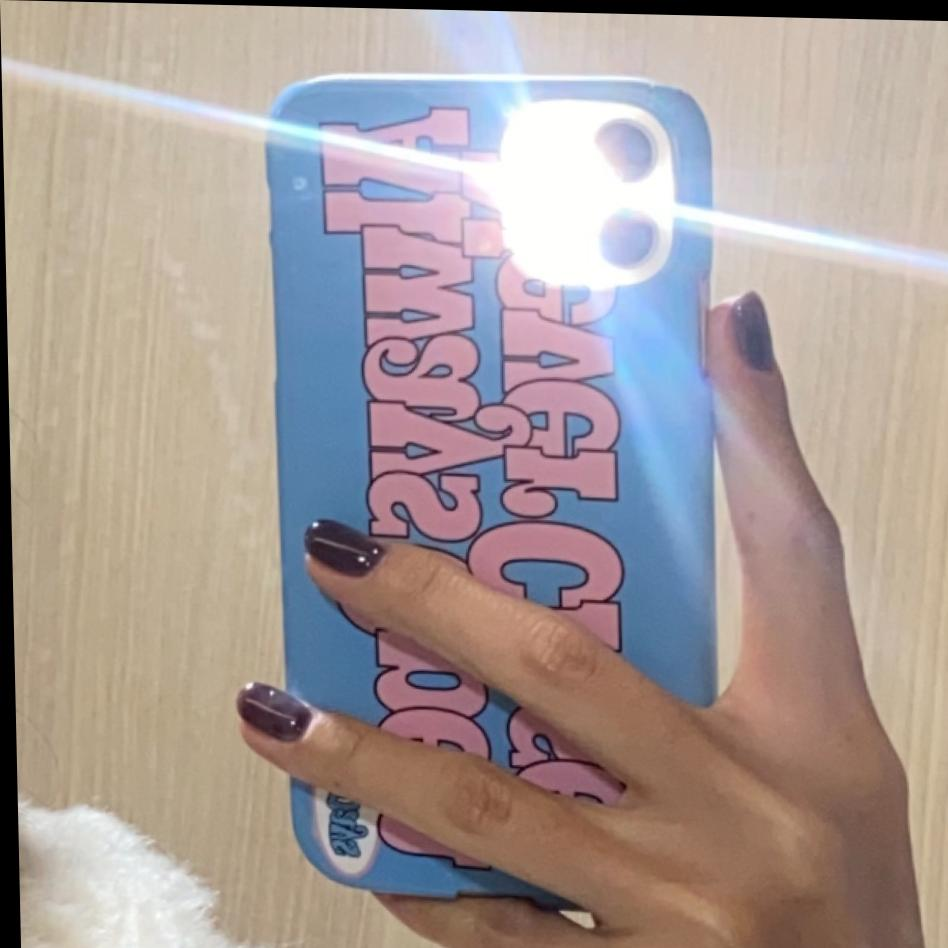nail: (302, 515, 387, 577), (234, 679, 313, 743)
